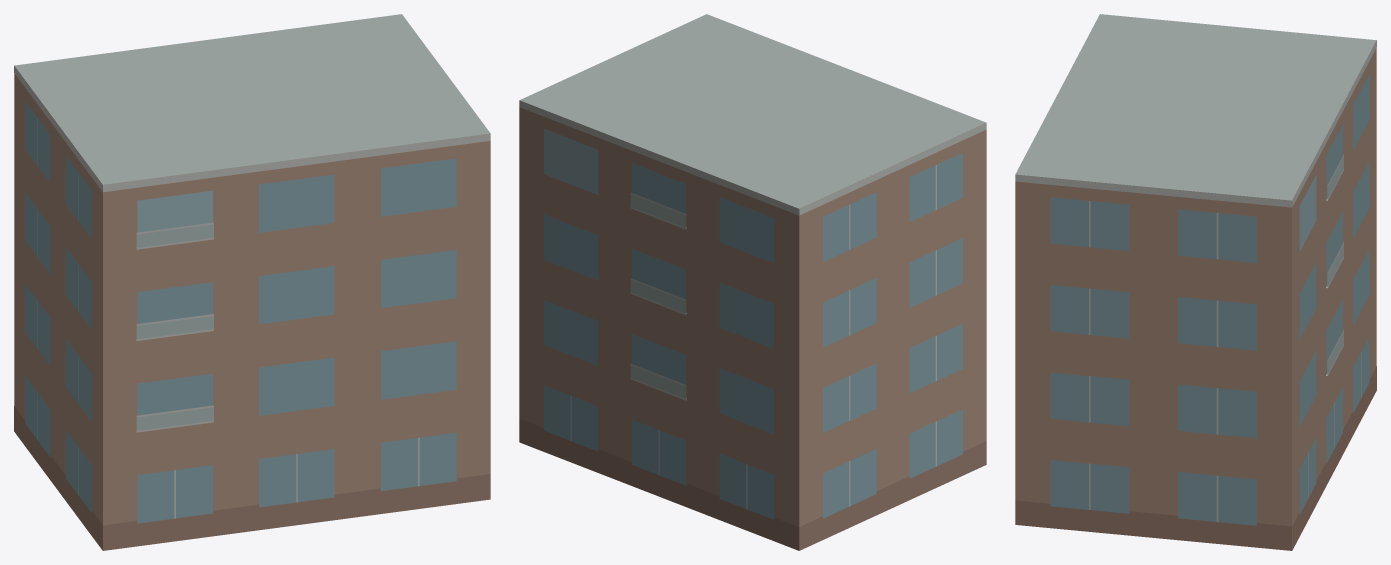
The model's file is residential-332b483b-aad0-4e0b-8665-e2bc67f1ddc4.glb.
The picture shows the model from 3 angles, left to right: view 1: azimuth 30°, elevation 25°; view 2: azimuth 150°, elevation 25°; view 3: azimuth 270°, elevation 25°; orthographic projection. The views are drawn at different scales.
Parts seen in each view (by area): view 1: residential-332b483b-aad0-4e0b-8665-e2bc67f1ddc4.tmp; view 2: residential-332b483b-aad0-4e0b-8665-e2bc67f1ddc4.tmp; view 3: residential-332b483b-aad0-4e0b-8665-e2bc67f1ddc4.tmp.
Boxes of the visible parts, bbox=[...] form: residential-332b483b-aad0-4e0b-8665-e2bc67f1ddc4.tmp: bbox=[14, 14, 490, 550]; residential-332b483b-aad0-4e0b-8665-e2bc67f1ddc4.tmp: bbox=[519, 14, 986, 550]; residential-332b483b-aad0-4e0b-8665-e2bc67f1ddc4.tmp: bbox=[1015, 14, 1376, 550].
Bounding box in the file's own units: 13.95 × 12.2 × 11.42.
